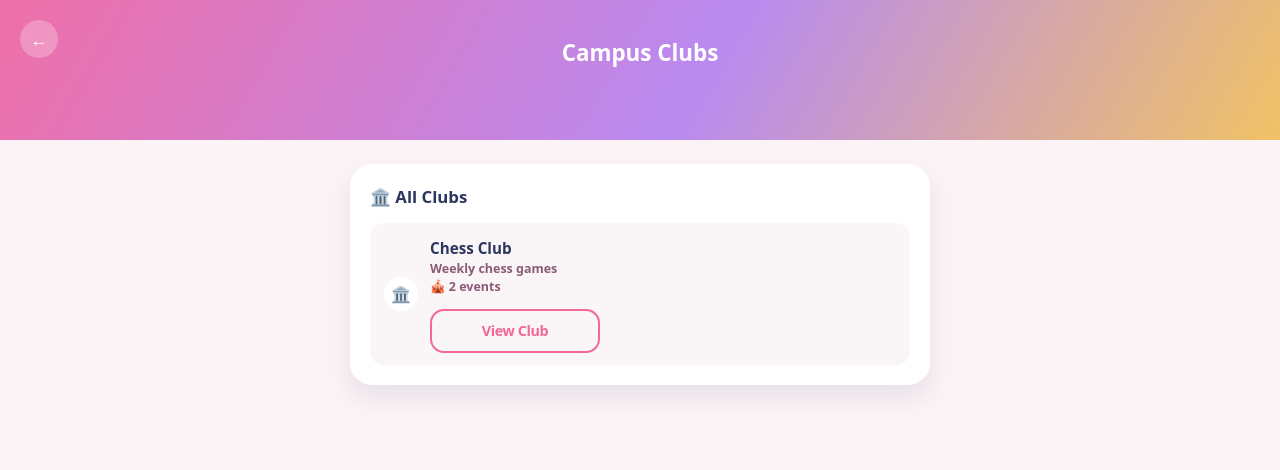
ClubsPage (browse clubs) › shows the error and stays on the list when a club cannot be opened
Click the button "View Club": [515, 331] box [430,309,600,353]
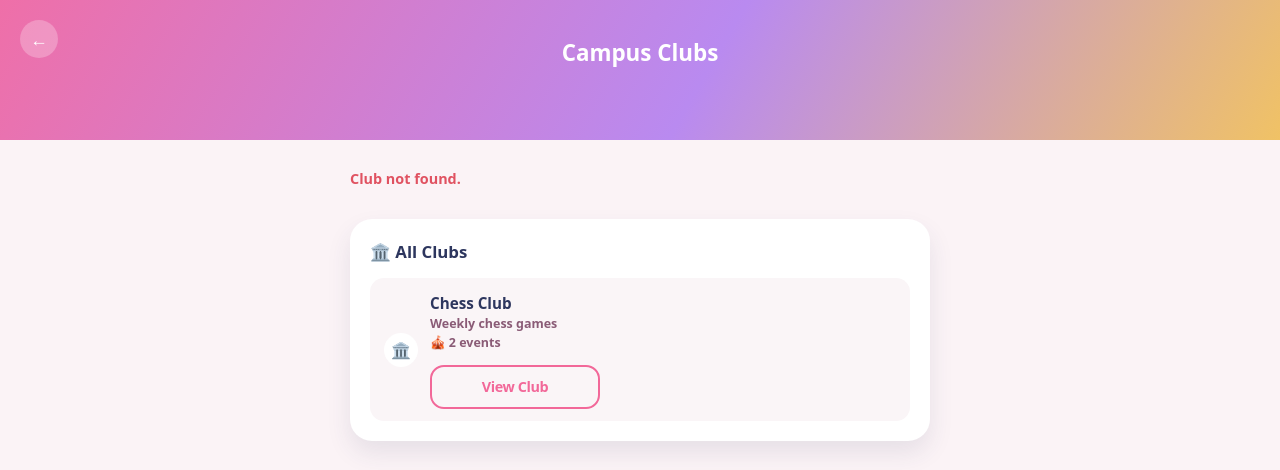
Expected: the heading "Campus Clubs" is shown, [562,37,718,68]
Expected: the text "Club not found." is shown, [350,169,461,188]
